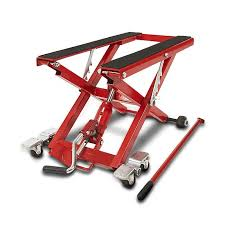Scissor Lift: (21, 29, 189, 189)
